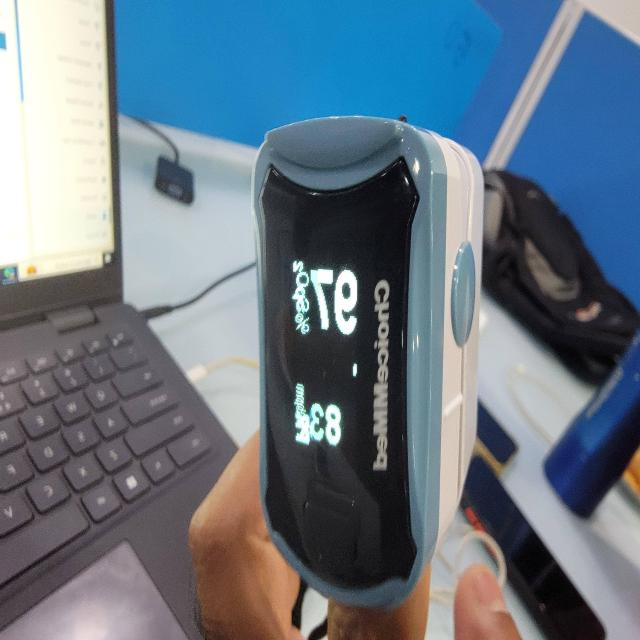spo2: (254, 117, 486, 615)
